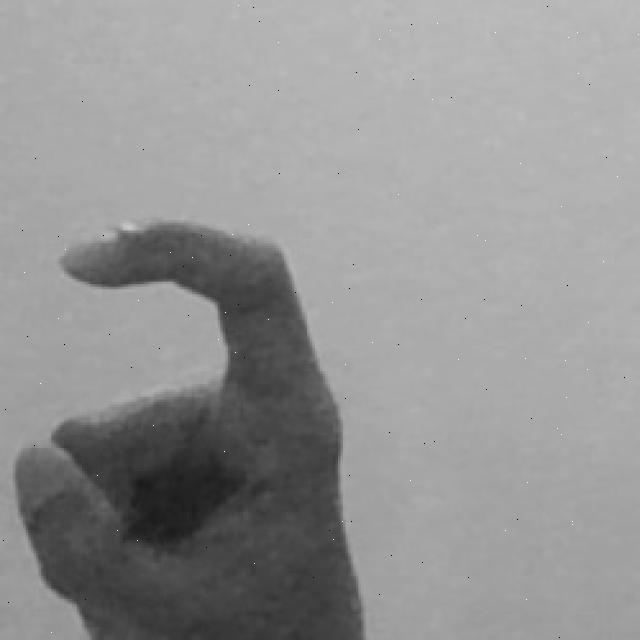X: (2, 210, 373, 640)
